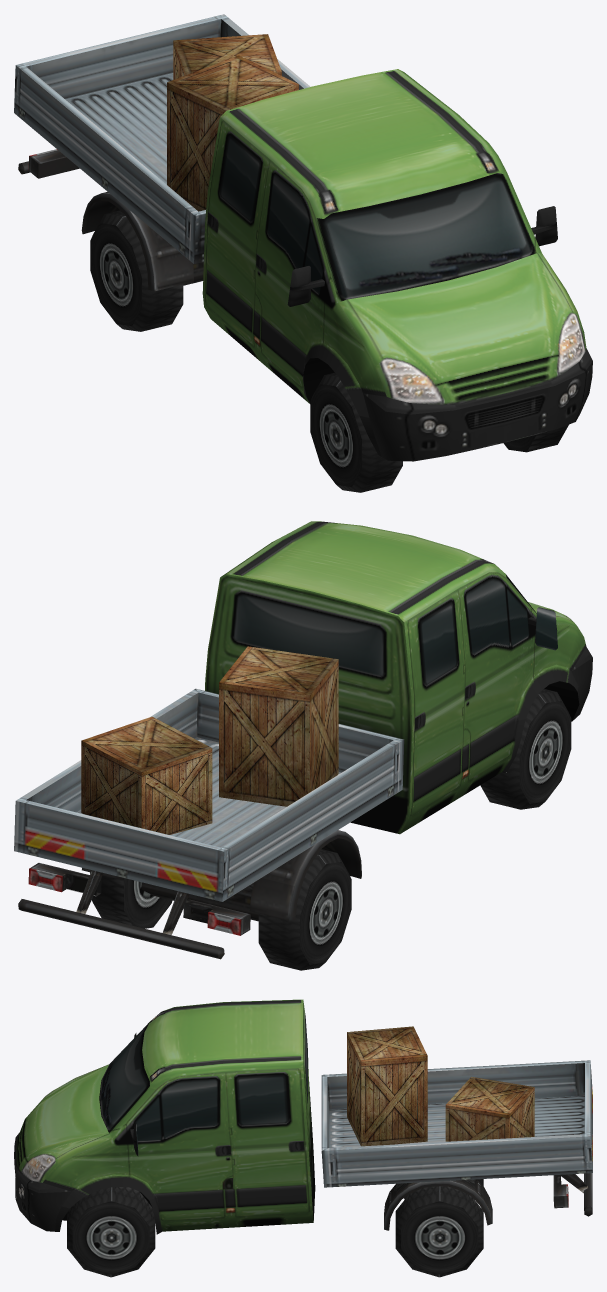
The model's file is traf_truck2.fbx.
The picture shows the model from 3 angles, top to bottom: view 1: azimuth 30°, elevation 25°; view 2: azimuth 150°, elevation 25°; view 3: azimuth 270°, elevation 25°; orthographic projection. The views are drawn at different scales.
Visible parts, largest first — view 1: traf_truck2; view 2: traf_truck2; view 3: traf_truck2.
Boxes of the visible parts, x1,y1,x2,y2 form: traf_truck2: (14, 14, 592, 492); traf_truck2: (14, 521, 592, 970); traf_truck2: (14, 999, 592, 1277).
Bounding box in the file's own units: 235 × 237 × 583.
